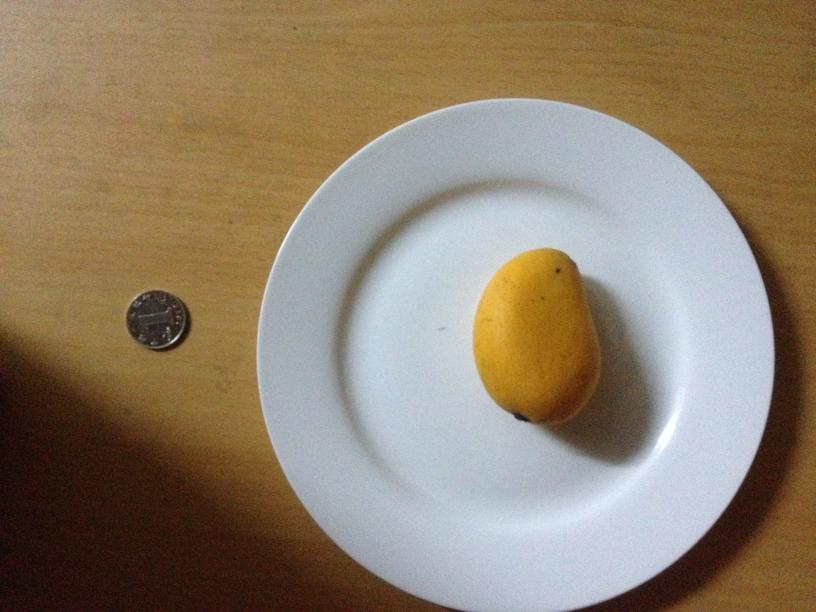coin: (124, 286, 188, 350)
mango: (477, 247, 599, 423)
